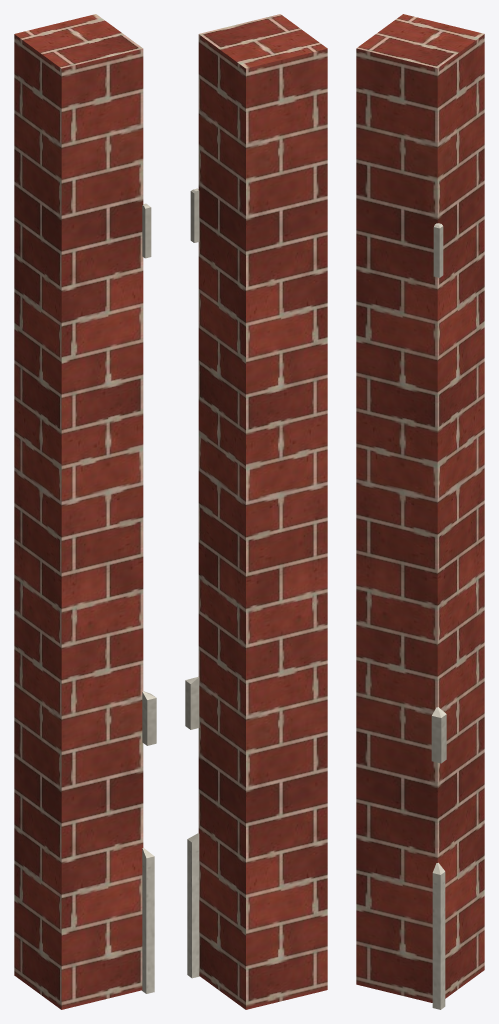
File: corner_g.glb
3 views of the same model, side by side, from view 1: azimuth 30°, elevation 25°; view 2: azimuth 210°, elevation 25°; view 3: azimuth 330°, elevation 25° (orthographic).
Visible parts, largest first — view 1: corner_g_brick, corner_g_precast; view 2: corner_g_brick, corner_g_precast; view 3: corner_g_brick, corner_g_precast.
Part boxes in pixels (bbox=[...]): corner_g_brick: bbox=[14, 14, 143, 1009]; corner_g_precast: bbox=[142, 203, 156, 993]; corner_g_brick: bbox=[198, 14, 327, 1009]; corner_g_precast: bbox=[185, 188, 199, 978]; corner_g_brick: bbox=[356, 14, 484, 1002]; corner_g_precast: bbox=[431, 223, 446, 1009].
Size of the model in its own units: 0.331 by 3.3 by 0.331.
Materials: 2 (2 with a texture image).
